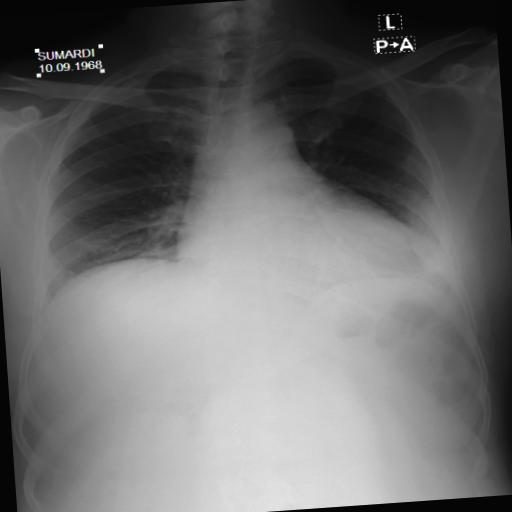kardiomegali: (12, 32, 474, 340)
